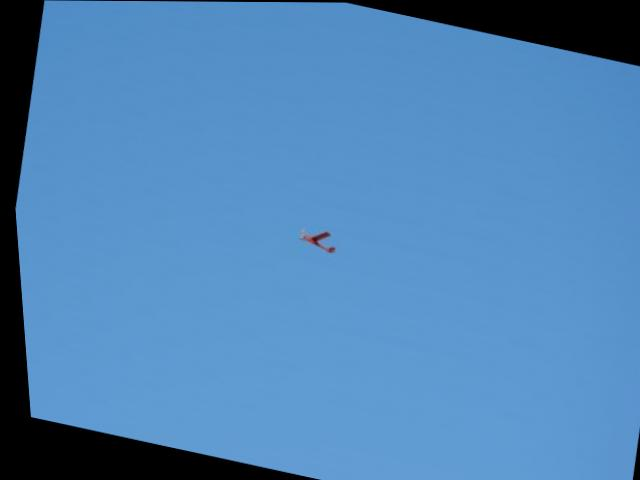iha: (282, 213, 339, 258)
